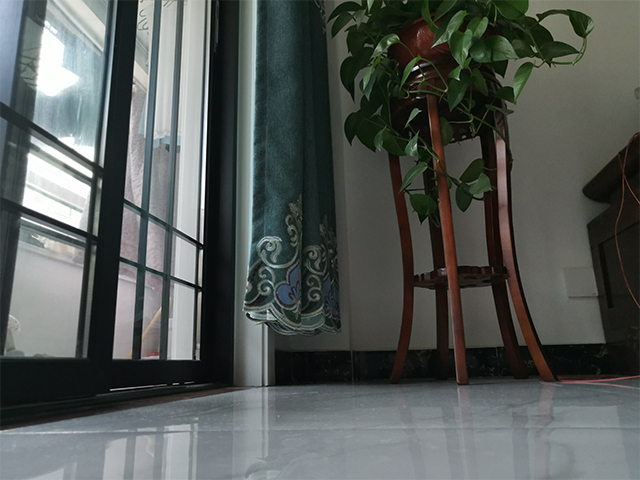curtain: (238, 1, 344, 339)
wire: (559, 131, 640, 385)
